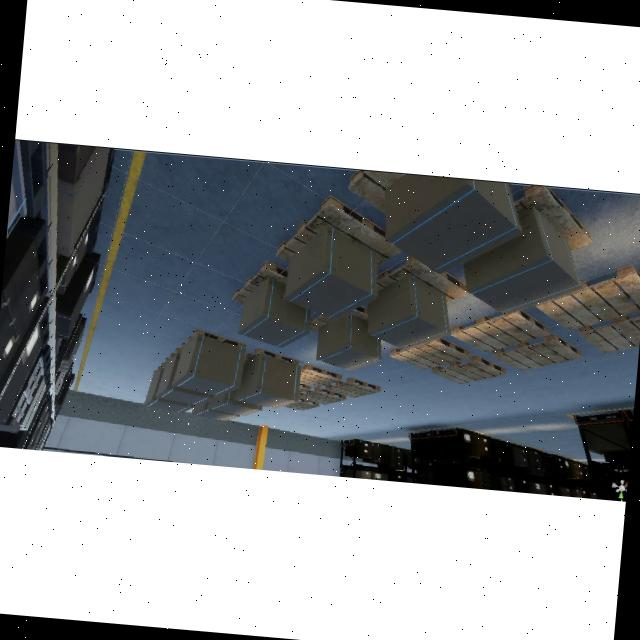wooden_pallet: (276, 194, 405, 267), (536, 264, 640, 331), (449, 309, 549, 353), (491, 334, 582, 371), (389, 337, 470, 371), (231, 261, 288, 306), (578, 313, 640, 354), (431, 355, 506, 385), (181, 329, 247, 349), (324, 377, 381, 398), (299, 364, 342, 388), (244, 347, 299, 365), (297, 388, 346, 405), (283, 398, 320, 411), (298, 383, 310, 394)
